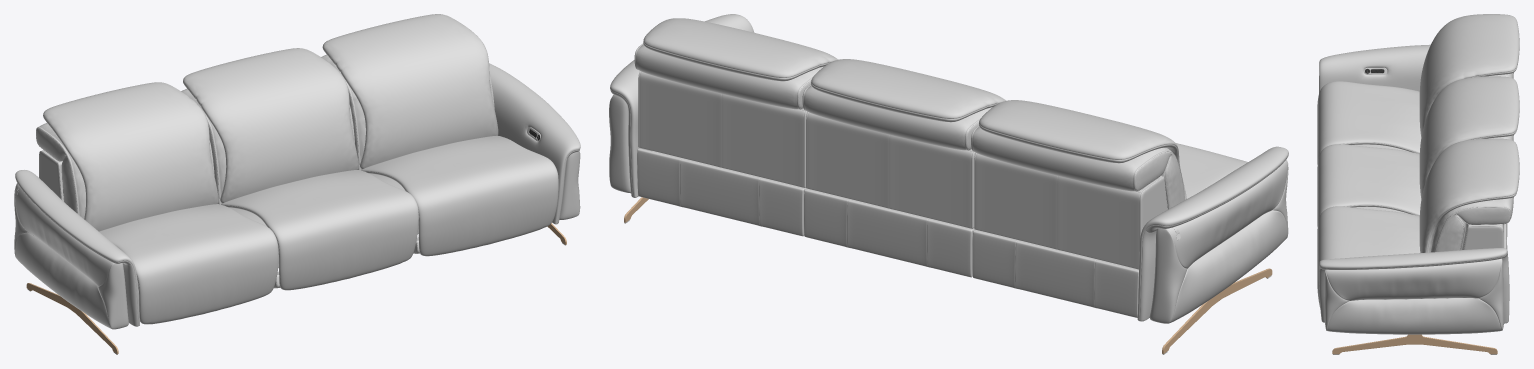
File: SBH_HUDSON_4_Seater.glb
3 views of the same model, side by side, from view 1: azimuth 30°, elevation 25°; view 2: azimuth 150°, elevation 25°; view 3: azimuth 270°, elevation 25° (orthographic). The views are drawn at different scales.
Visible parts, largest first — view 1: HUDSON_4_Seater; view 2: HUDSON_4_Seater; view 3: HUDSON_4_Seater.
Part boxes in pixels (left/top/right/bottom): HUDSON_4_Seater: left=14, top=14, right=580, bottom=354; HUDSON_4_Seater: left=609, top=14, right=1288, bottom=354; HUDSON_4_Seater: left=1317, top=14, right=1519, bottom=354.
Bounding box in the file's own units: 2.8 × 0.9255 × 1.1.
